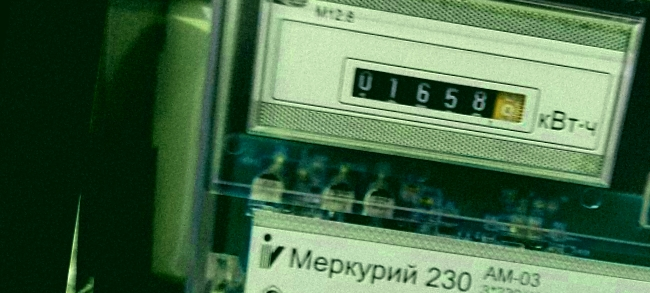0: (355, 68, 375, 92)
1: (384, 74, 402, 100)
5: (442, 84, 461, 110)
6: (413, 79, 434, 105)
8: (470, 88, 489, 112)
9: (497, 100, 516, 123)
screen: (333, 52, 545, 139)
